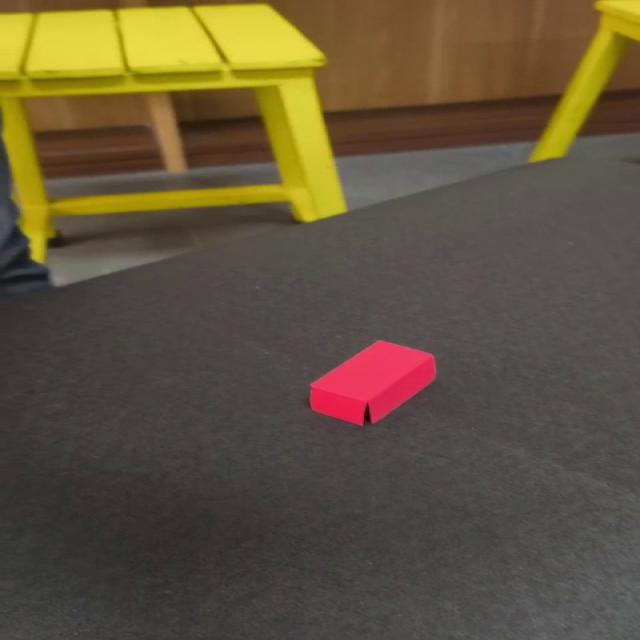red block: (307, 338, 437, 426)
